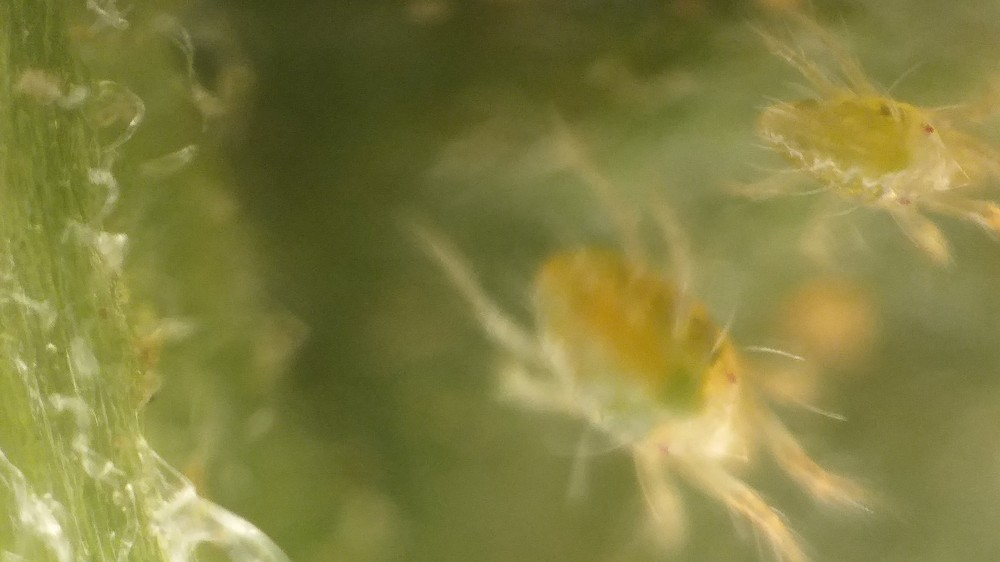Aracnido Rojo: (415, 146, 929, 562), (709, 11, 1000, 284)
